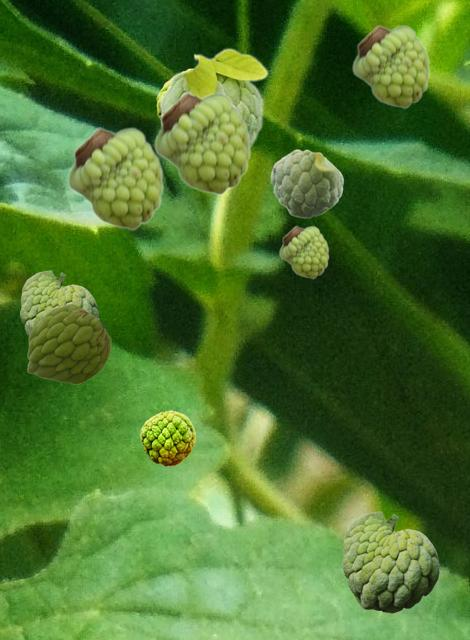atis: (158, 47, 268, 150), (67, 126, 163, 230), (154, 91, 250, 195), (342, 511, 438, 612), (27, 304, 109, 383), (352, 24, 429, 108), (20, 270, 97, 335), (270, 149, 343, 217), (140, 410, 194, 465), (279, 225, 328, 278), (156, 68, 190, 117)
